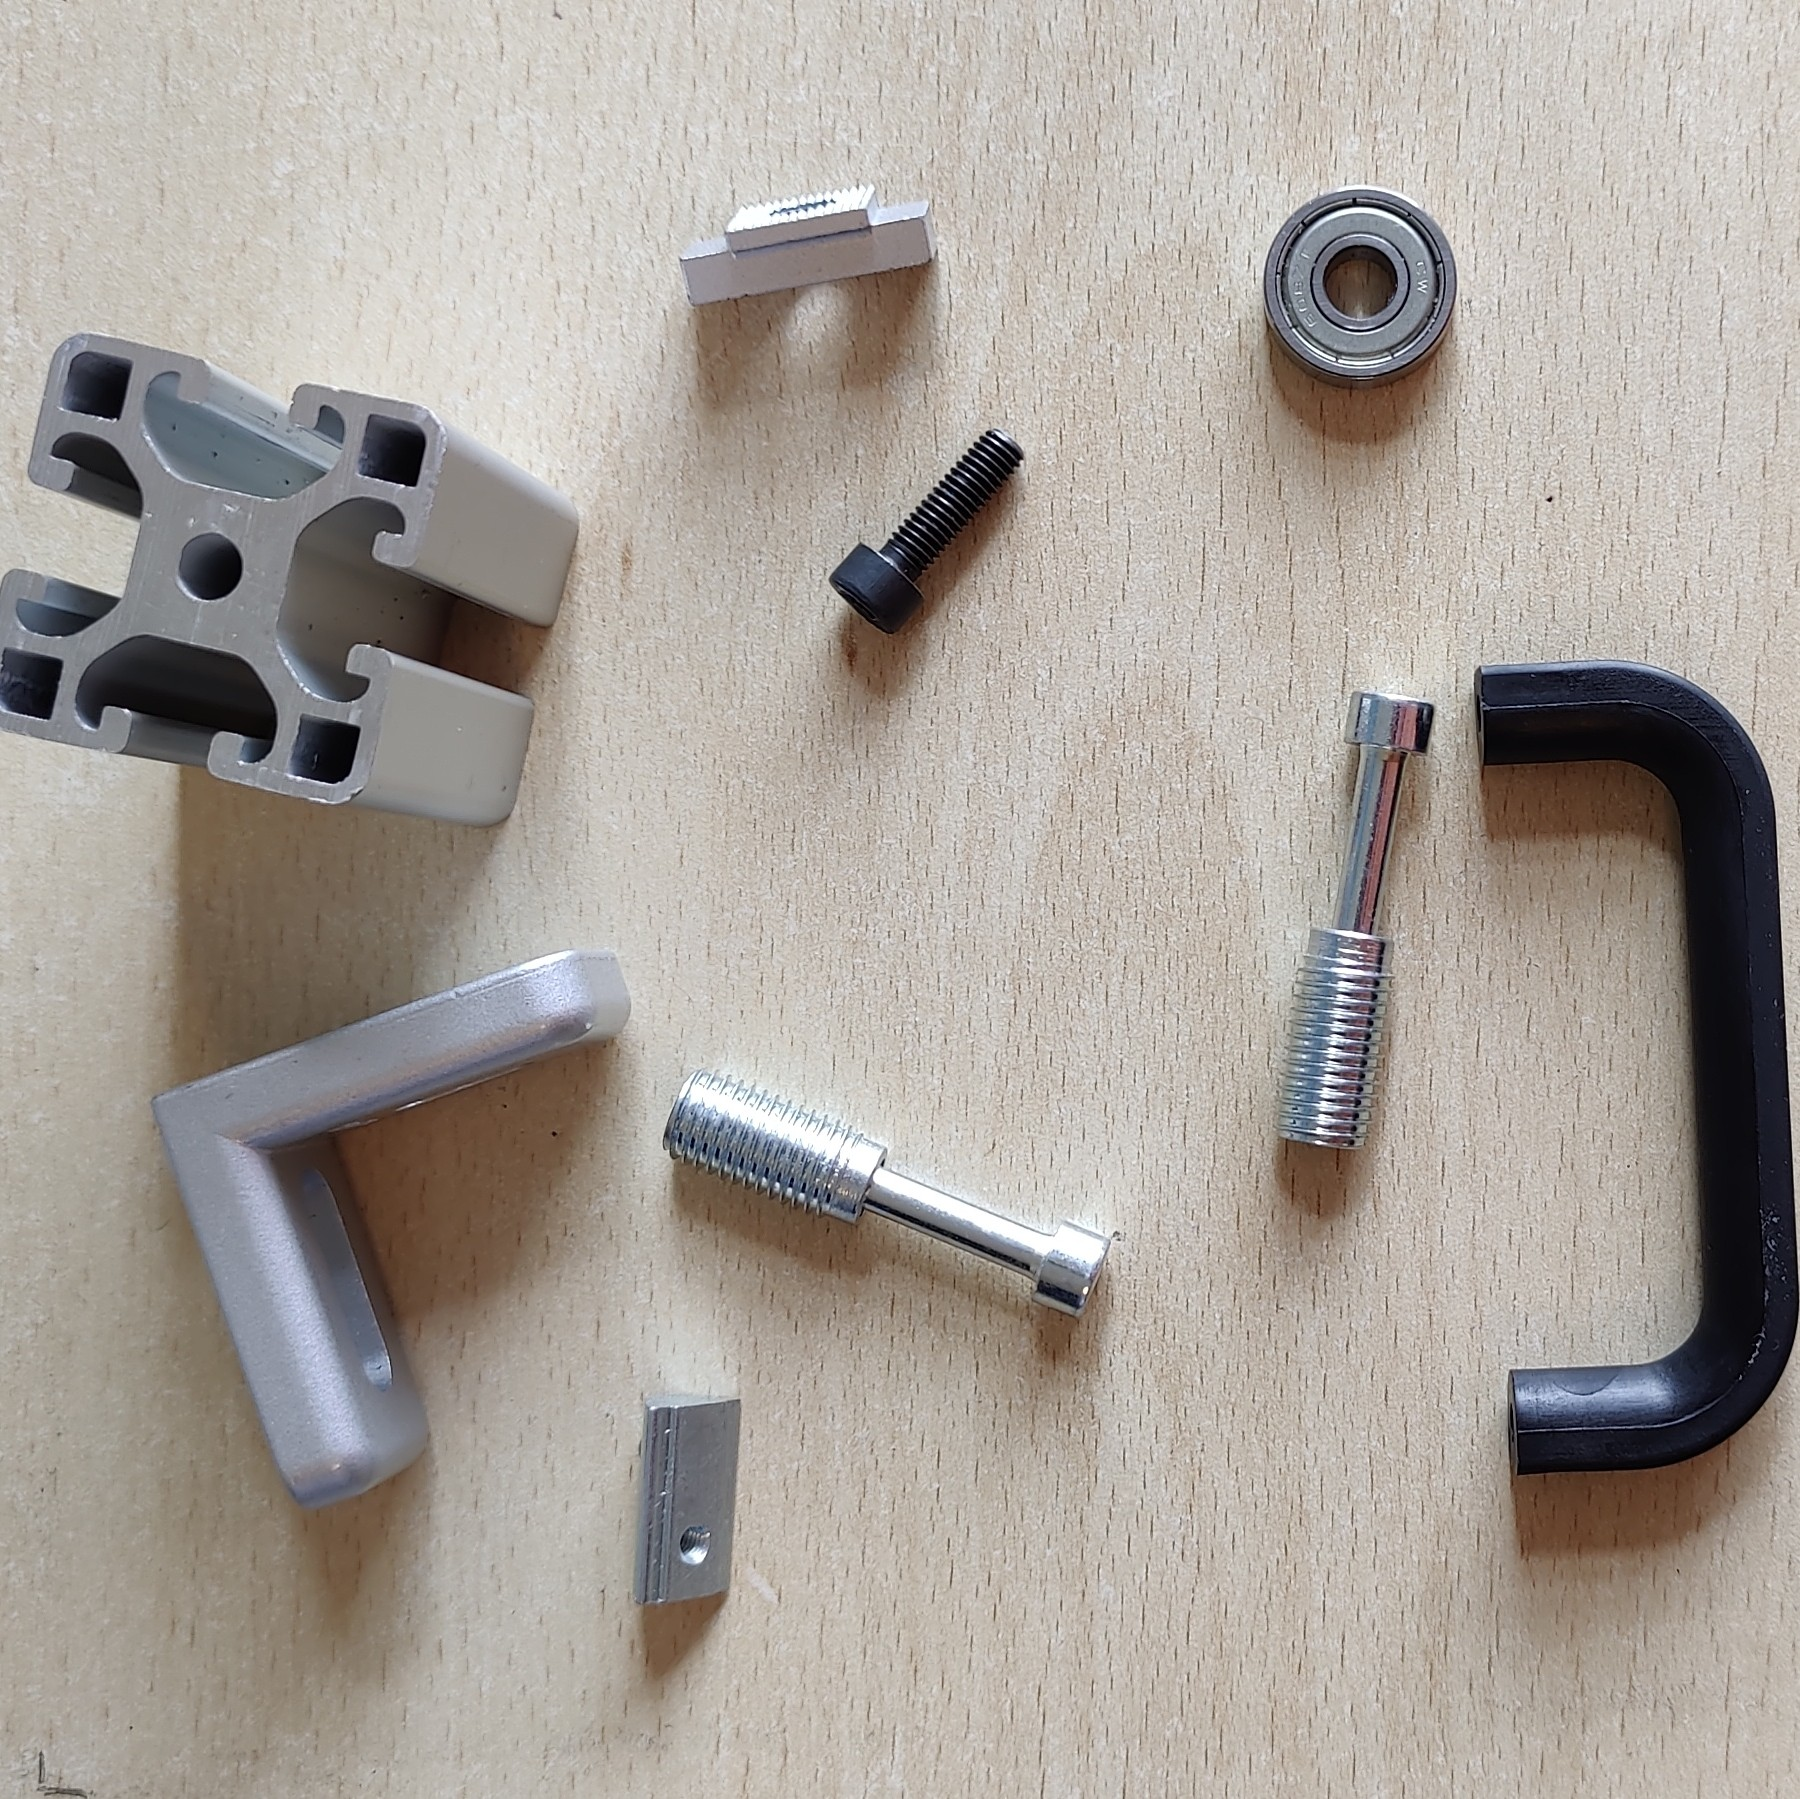Aluminium Extension: (2, 329, 581, 830)
Ball Bearing: (1261, 185, 1459, 392)
Multiwinkel: (148, 946, 632, 1514)
Pull Handle: (1471, 654, 1800, 1479)
Shoulder Socket Head Cap Screw: (659, 1063, 1115, 1325), (1270, 689, 1438, 1152)
Socket Head Cap Screw: (828, 423, 1028, 638)
T Nut Square: (678, 185, 940, 308)
T Spring Nut: (629, 1382, 744, 1610)
